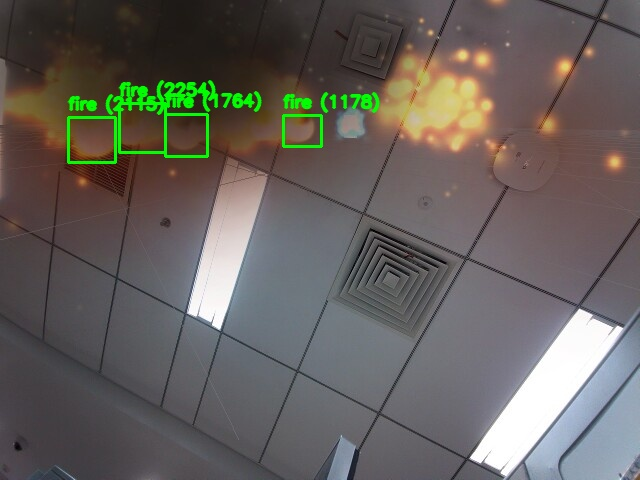fire: (119, 103, 165, 152), (68, 117, 115, 162), (165, 114, 207, 156), (283, 115, 321, 146)
